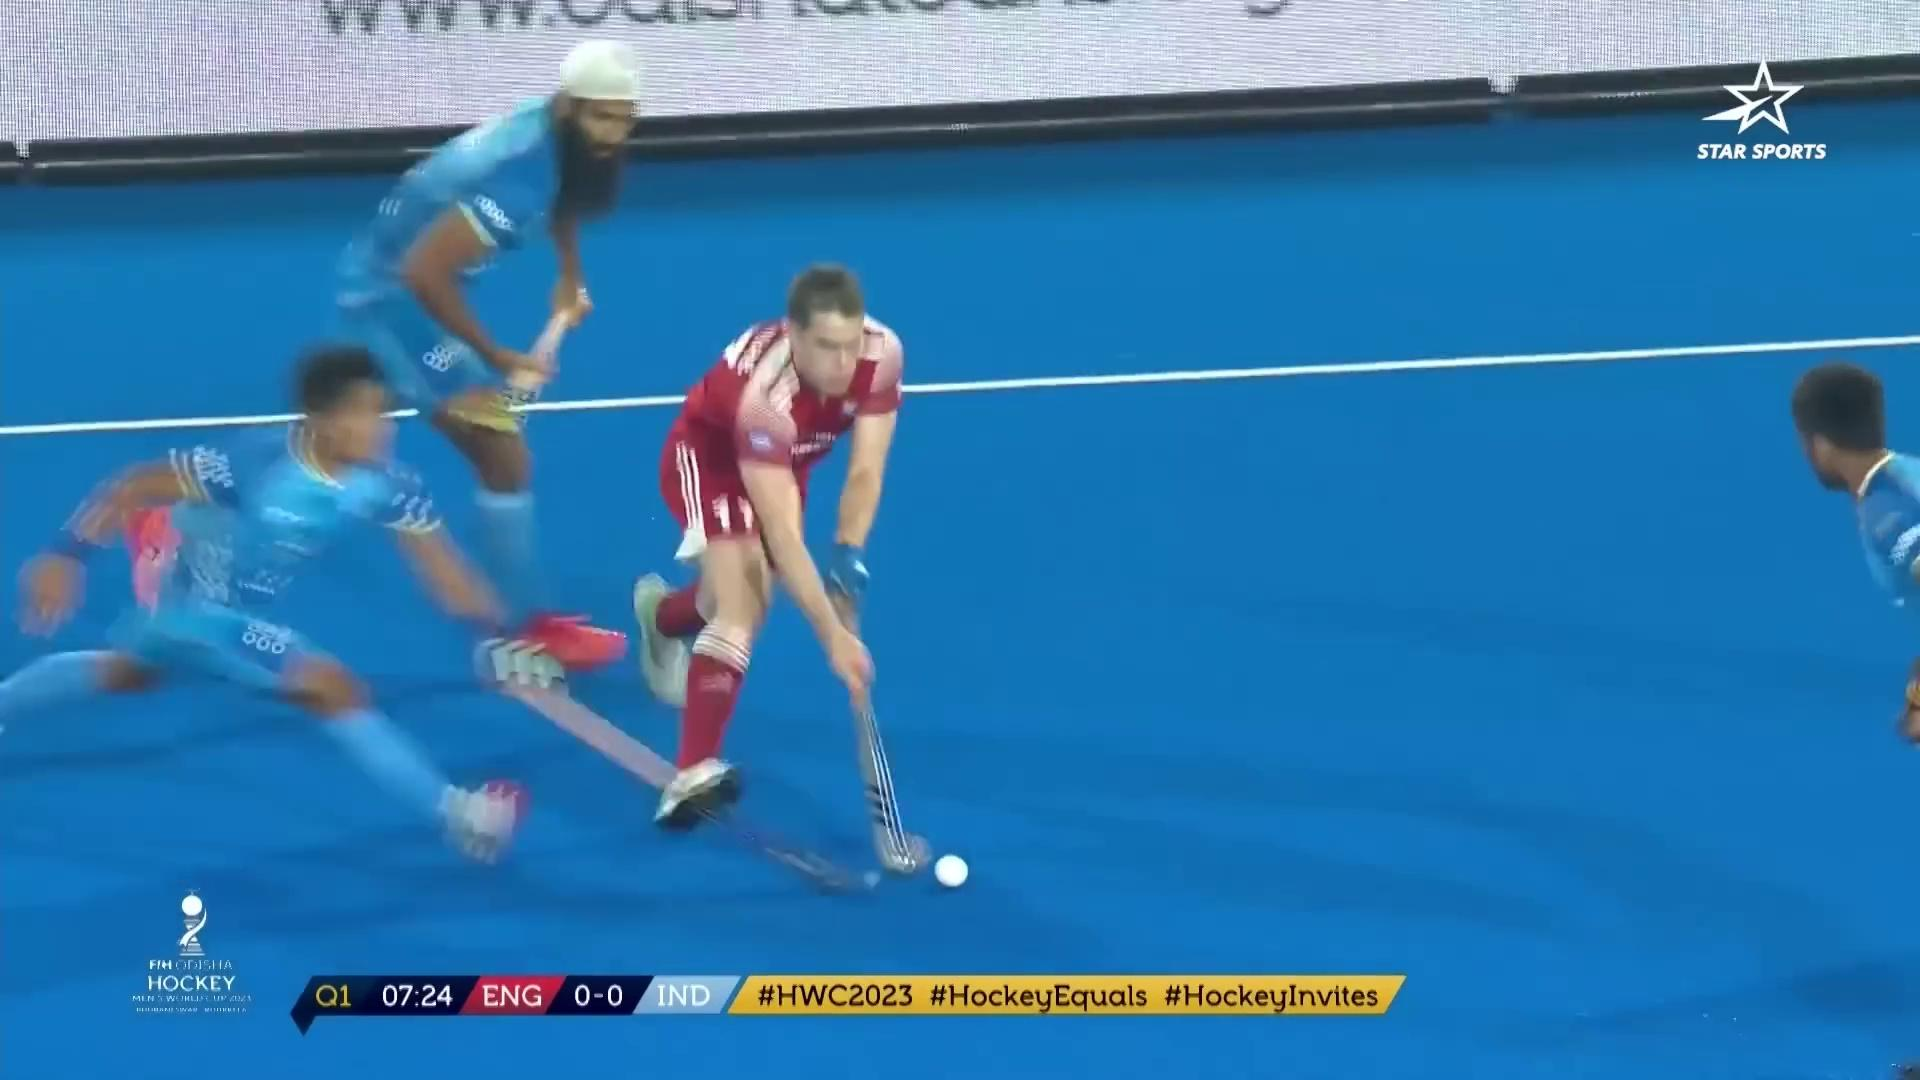ball: (909, 827, 1011, 913)
